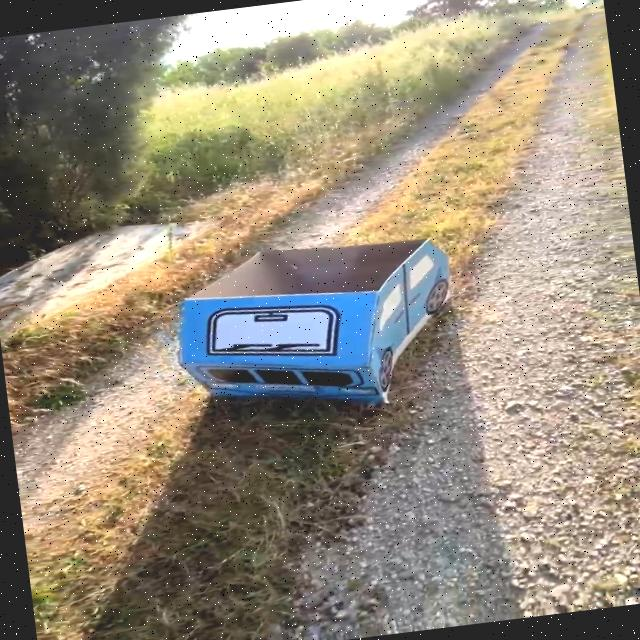blue_car: (102, 187, 526, 463)
